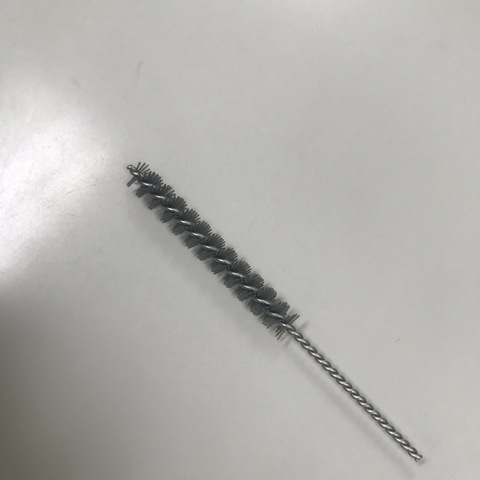Twist Brush-A: (118, 160, 426, 465)
